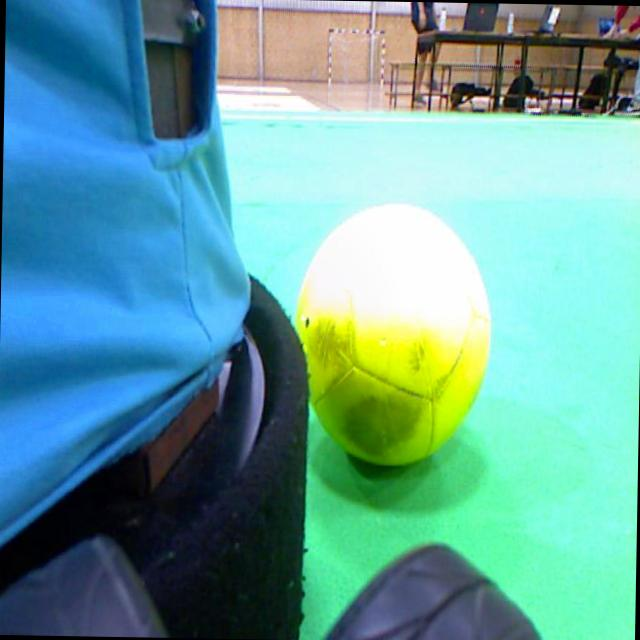ball: (296, 204, 489, 463)
